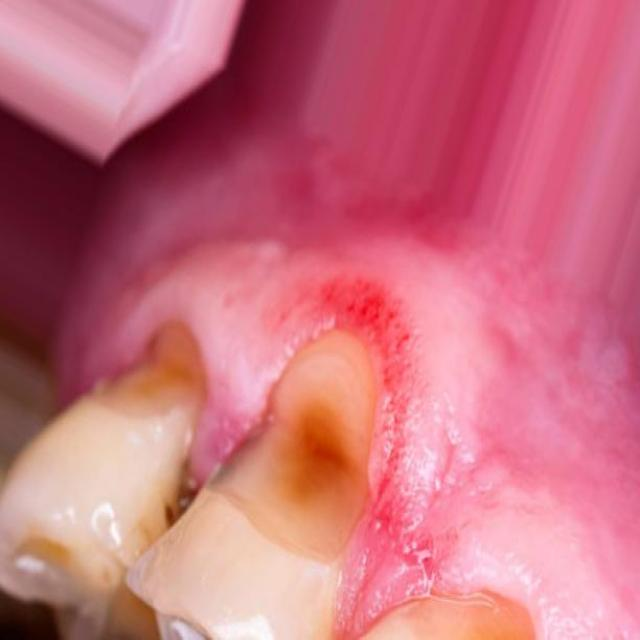caries: (205, 322, 394, 570), (87, 310, 221, 446), (410, 564, 553, 640)
